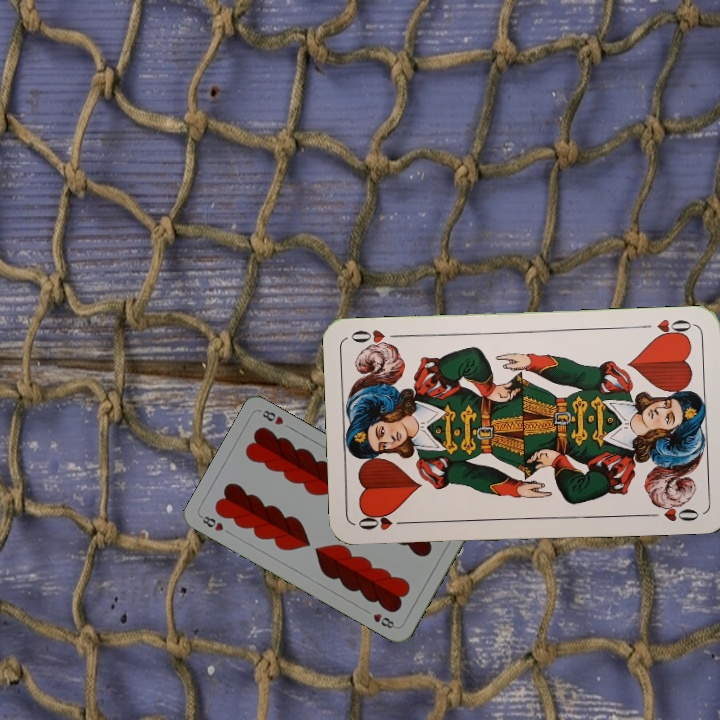H8: (197, 512, 226, 534)
HO: (637, 314, 696, 341), (354, 509, 413, 533)
